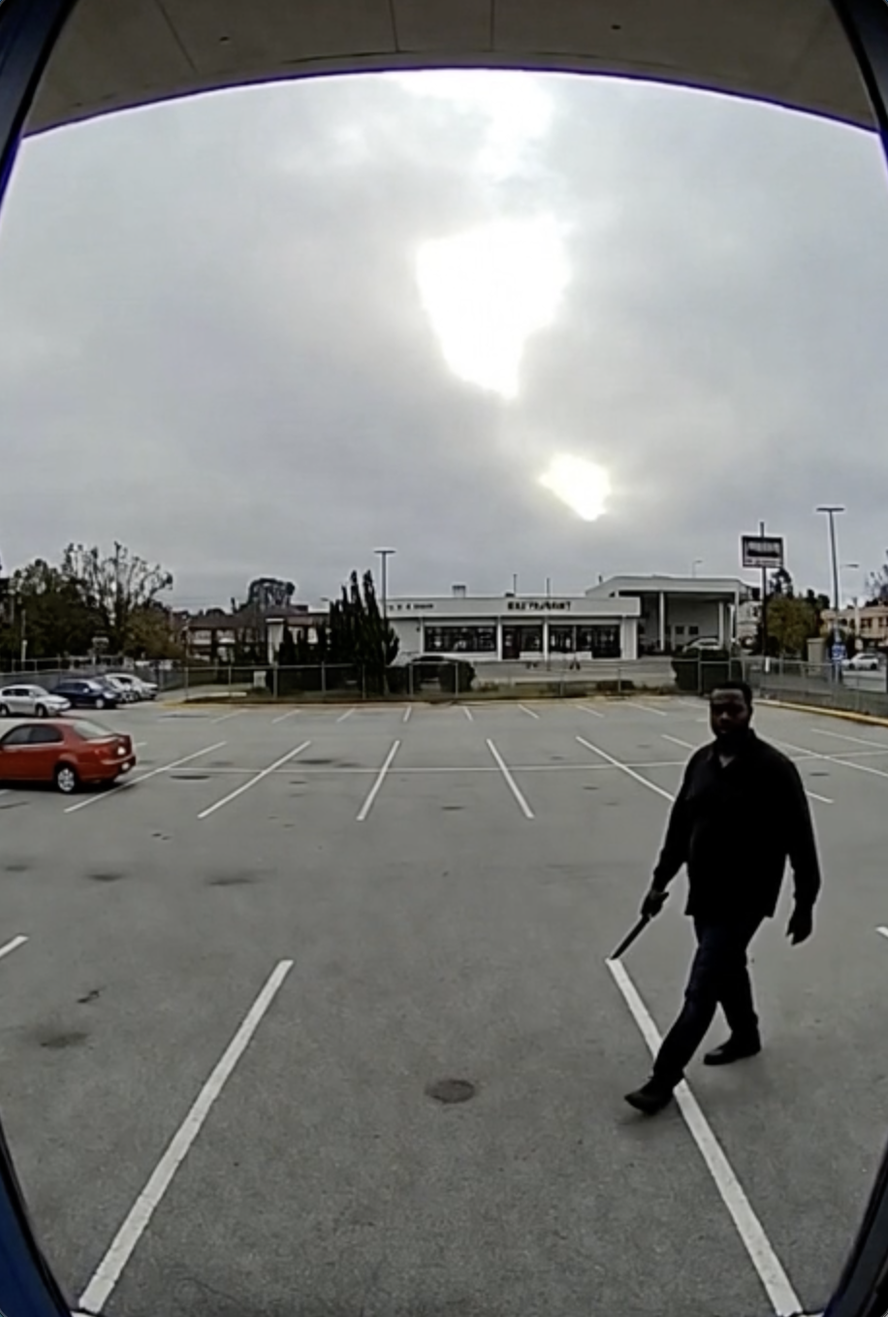Heavy Gun: (623, 681, 823, 1119)
Knife: (603, 879, 675, 969)
